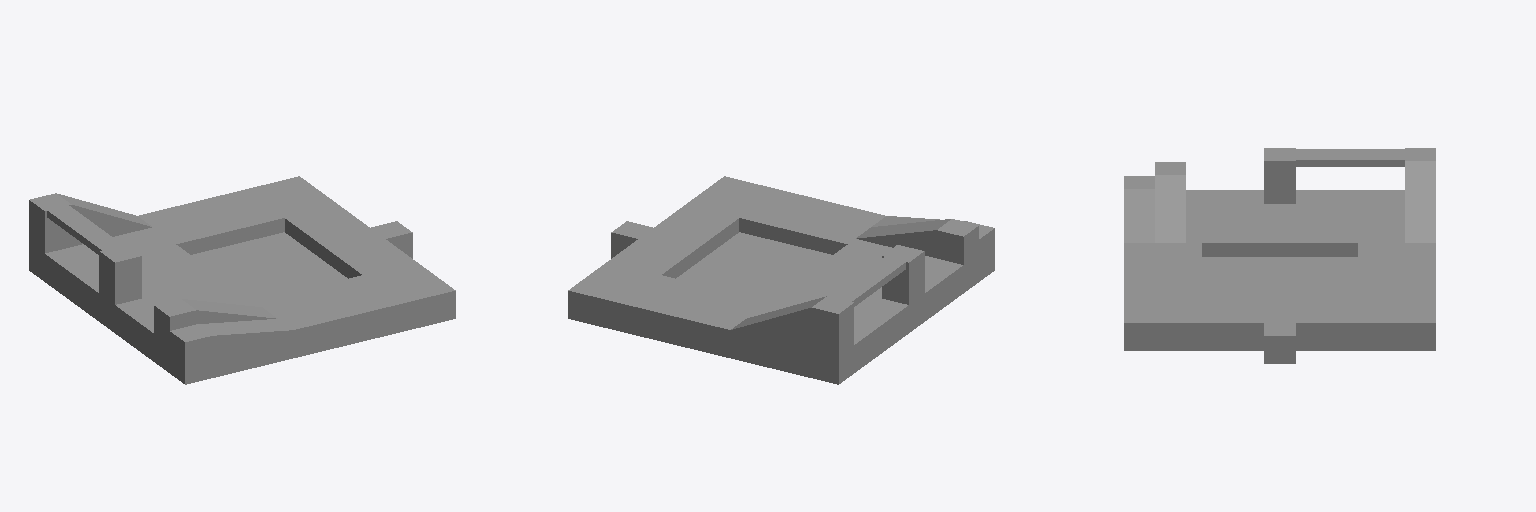
The model's file is TestLevel.obj.
3 renders of one model, left to right at view 1: azimuth 30°, elevation 25°; view 2: azimuth 150°, elevation 25°; view 3: azimuth 270°, elevation 25°, orthographic.
Parts seen in each view (by area): view 1: Cube; view 2: Cube; view 3: Cube.
Part boxes in pixels (x1,y1,x2,y2): Cube: (29,176,455,384); Cube: (568,176,994,384); Cube: (1124,148,1435,363).
Bounding box in the file's own units: 22 × 5 × 20.